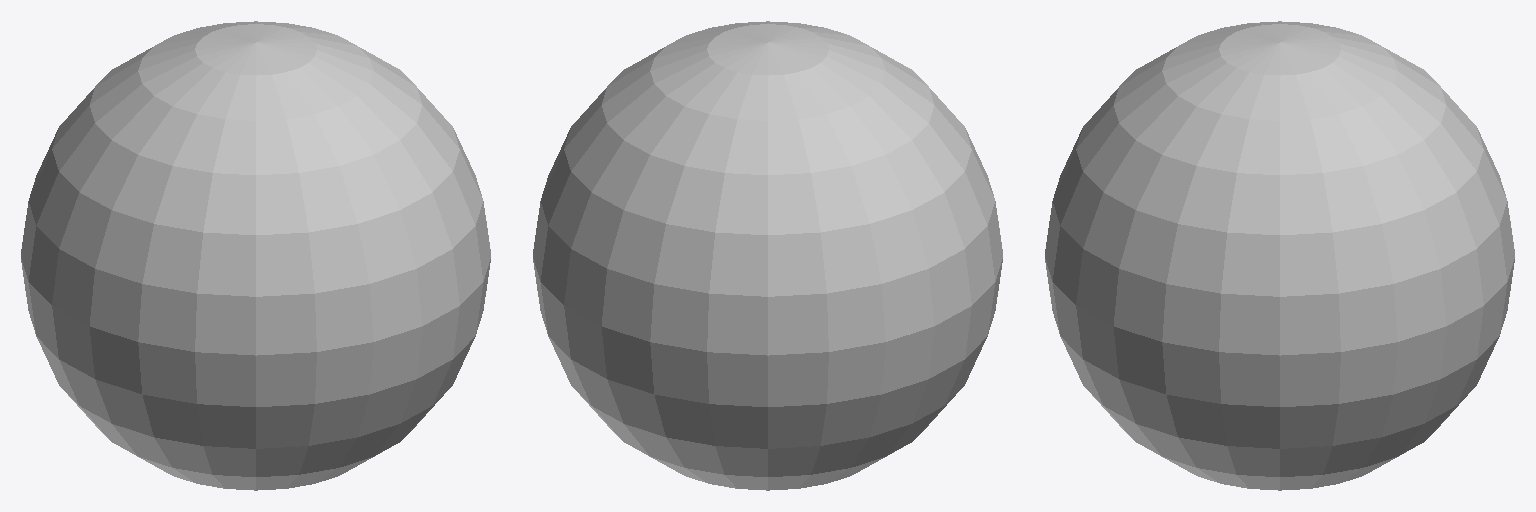
Rendered from bola.obj.
3 renders of one model, left to right at view 1: azimuth 30°, elevation 25°; view 2: azimuth 150°, elevation 25°; view 3: azimuth 270°, elevation 25°, orthographic.
Parts seen in each view (by area): view 1: Object_23, Object_25, Object_11, Object_13, Object_21, Object_27, Object_9, Object_15, Object_29, Object_31; view 2: Object_29, Object_27, Object_15, Object_17, Object_25, Object_31, Object_13, Object_19, Object_21, Object_23; view 3: Object_21, Object_31, Object_9, Object_19, Object_23, Object_29, Object_17, Object_11, Object_25, Object_27.
Part boxes in pixels (x1,y1,x2,y2): Object_23: (256,43,459,355); Object_25: (52,43,255,355); Object_11: (256,306,459,490); Object_13: (52,306,255,490); Object_21: (256,37,490,304); Object_27: (21,37,255,304); Object_9: (403,259,490,438); Object_15: (21,259,108,438); Object_29: (155,21,255,45); Object_31: (256,21,356,45); Object_29: (564,43,767,355); Object_27: (768,43,971,355); Object_15: (768,306,971,490); Object_17: (564,306,767,490); Object_25: (768,37,1002,304); Object_31: (533,37,767,304); Object_13: (915,259,1002,438); Object_19: (533,259,620,438); Object_21: (667,21,767,45); Object_23: (768,21,868,45); Object_21: (1076,43,1279,355); Object_31: (1280,43,1483,355); Object_9: (1076,306,1279,490); Object_19: (1280,306,1483,490); Object_23: (1045,37,1279,304); Object_29: (1280,37,1514,304); Object_17: (1427,259,1514,438); Object_11: (1045,259,1132,438); Object_25: (1179,21,1279,45); Object_27: (1280,21,1380,45).
Size of the model in its own units: 1.33 by 1.33 by 1.33.